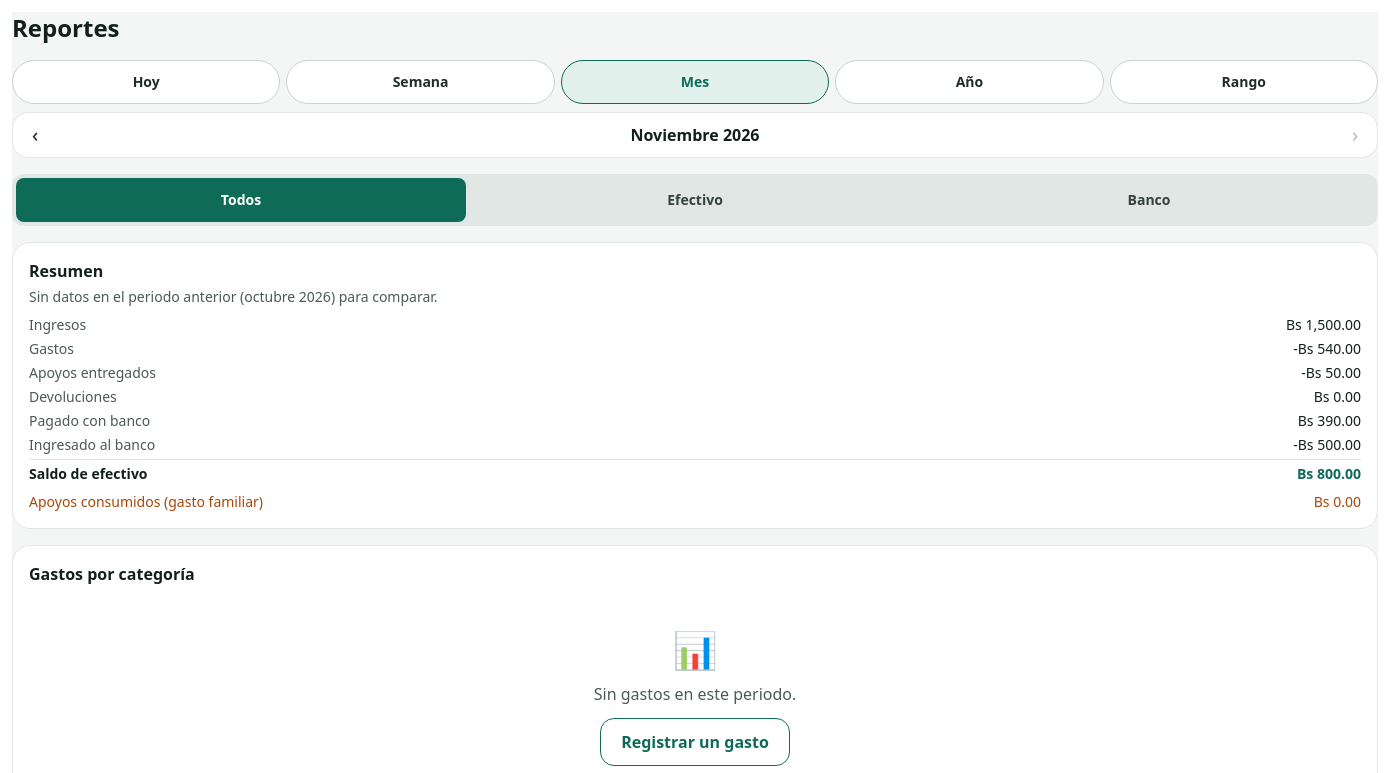
Test: Reportes con fuente de pago › el filtro Todos / Efectivo / Banco vuelve a pedir todo con esa fuente; con Banco no hay «Te queda»
The width and height of the screenshot is (1390, 773).
Later steps or results of the test are not shown.
Click the radio button labelled "Banco".
click(1149, 200)  # box [924,178,1374,222]
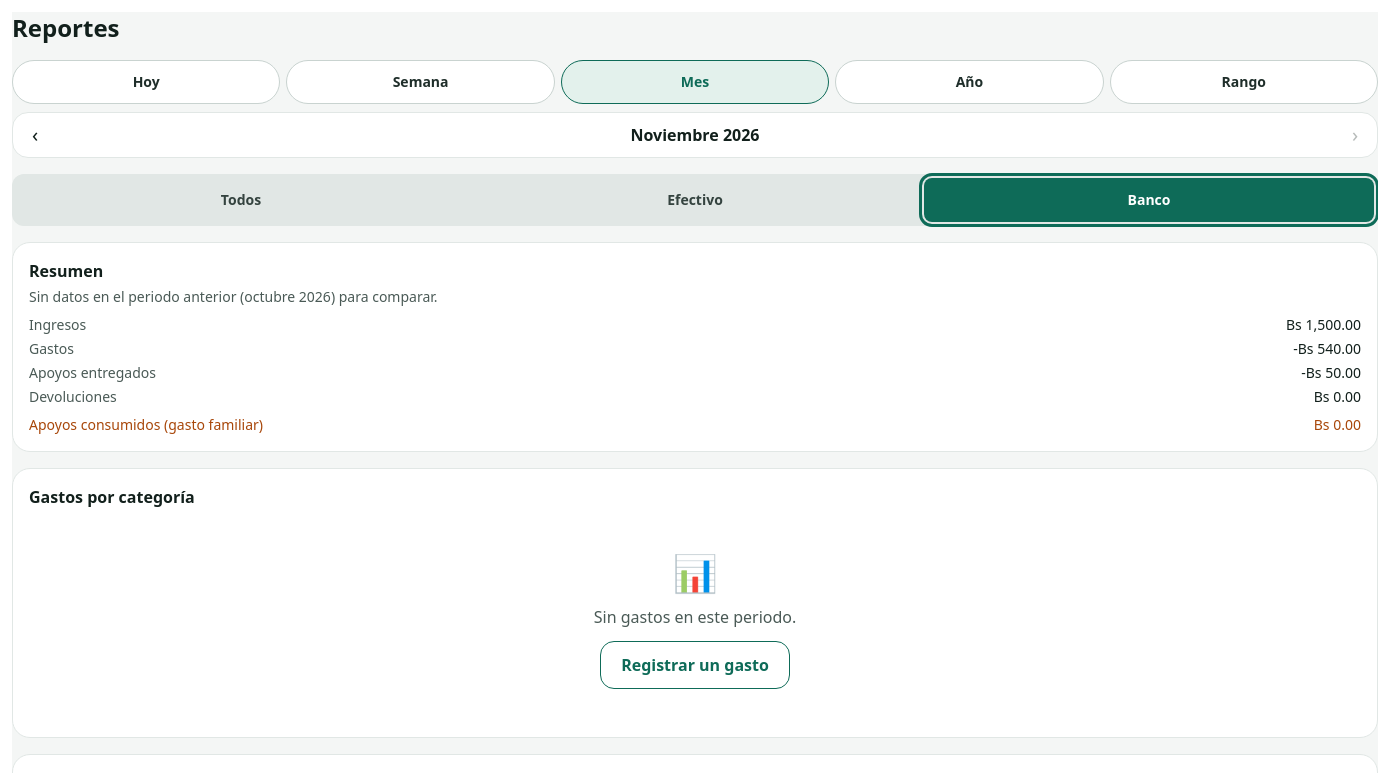
Check: the text with test id "saldo-efectivo-reportes" is gone
